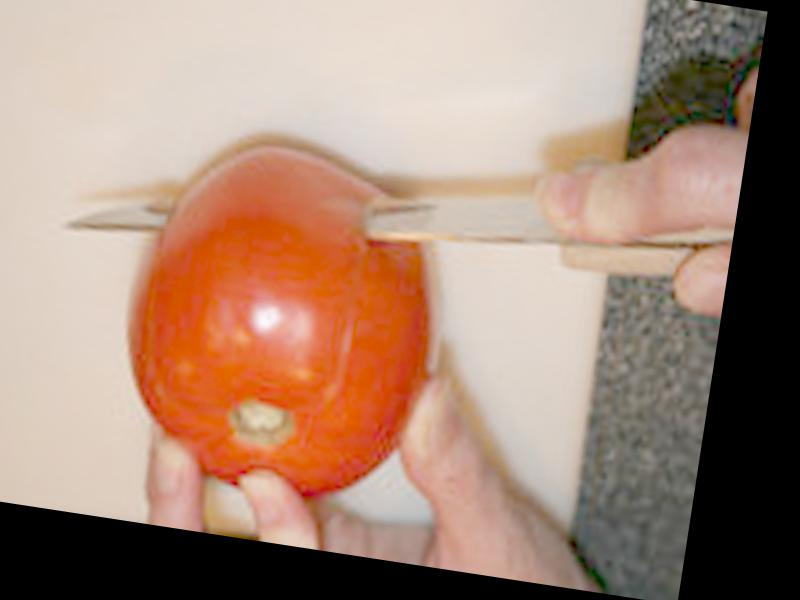Tomato: (101, 128, 457, 516)
